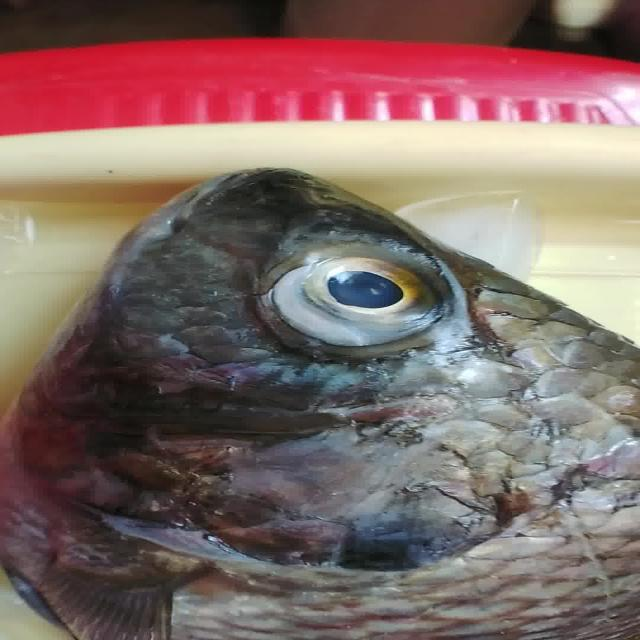Fresh: (205, 213, 476, 369)
